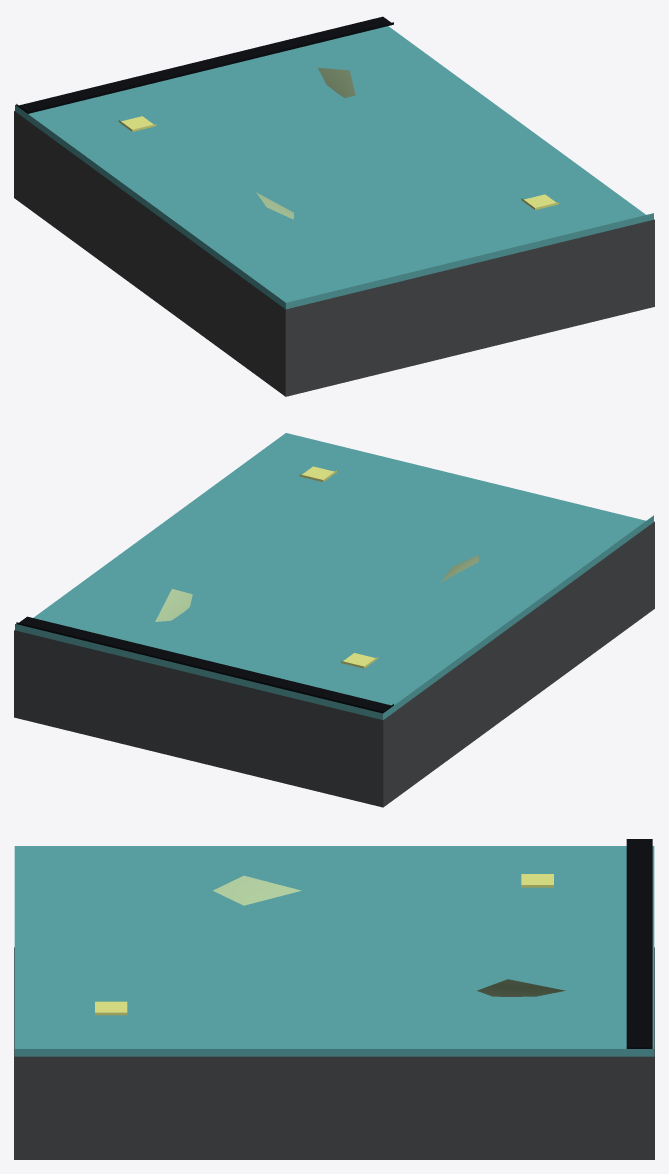
Rendered from tt_climb_mat_300_124x15.glb.
3 renders of one model, top to bottom at view 1: azimuth 30°, elevation 25°; view 2: azimuth 150°, elevation 25°; view 3: azimuth 270°, elevation 25°, orthographic. The views are drawn at different scales.
Visible parts, largest first — view 1: Mat_Cover, Mat_Core, Velcro_Seam_Flap, Leaf_Print, Ball_Dots; view 2: Mat_Cover, Mat_Core, Velcro_Seam_Flap, Leaf_Print, Ball_Dots; view 3: Mat_Cover, Mat_Core, Velcro_Seam_Flap, Leaf_Print, Ball_Dots.
Boxes of the visible parts, <box> form: Mat_Cover: <box>15,26,653,309</box>; Mat_Core: <box>14,111,654,396</box>; Velcro_Seam_Flap: <box>16,16,393,113</box>; Leaf_Print: <box>256,67,355,219</box>; Ball_Dots: <box>118,116,558,209</box>; Mat_Cover: <box>15,433,653,719</box>; Mat_Core: <box>14,521,654,807</box>; Velcro_Seam_Flap: <box>16,616,393,713</box>; Leaf_Print: <box>155,555,478,621</box>; Ball_Dots: <box>299,466,378,668</box>; Mat_Cover: <box>14,846,654,1056</box>; Mat_Core: <box>14,947,654,1159</box>; Velcro_Seam_Flap: <box>626,839,652,1048</box>; Leaf_Print: <box>213,875,565,996</box>; Ball_Dots: <box>95,874,553,1015</box>.
Size of what is drawn, in the model's own units: 1.24 by 0.3412 by 1.58.
Materials: 5 (1 with a texture image).
